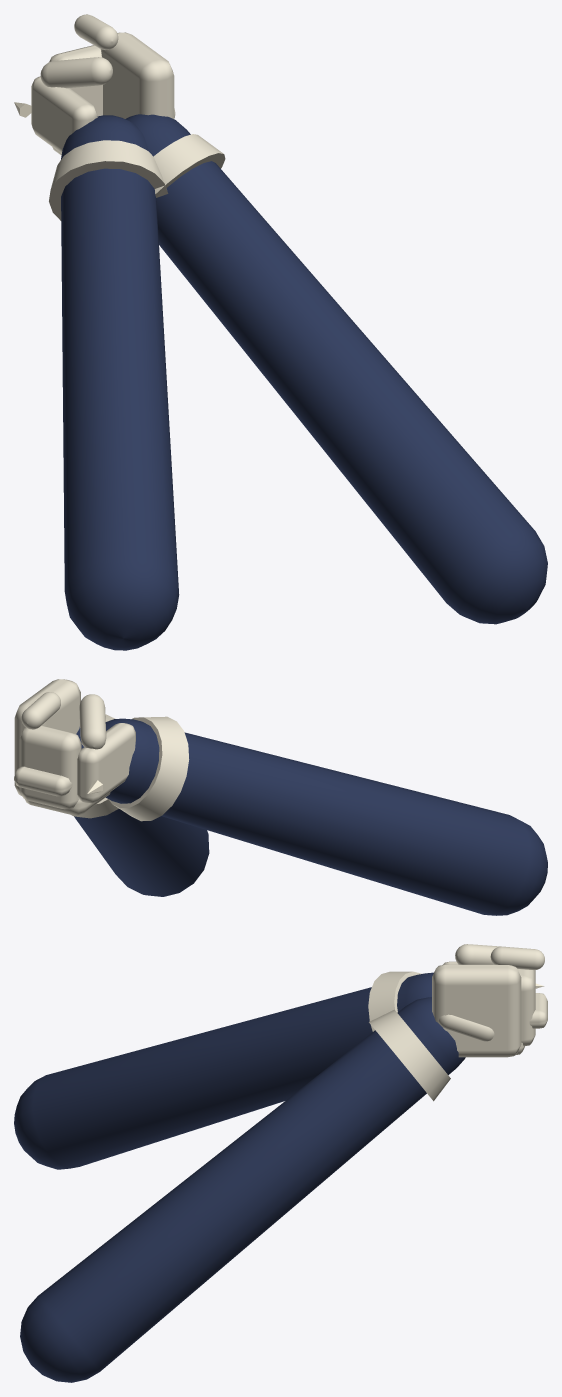
The model's file is inkwell.glb.
The picture shows the model from 3 angles, top to bottom: view 1: azimuth 30°, elevation 25°; view 2: azimuth 150°, elevation 25°; view 3: azimuth 270°, elevation 25°; orthographic projection. The views are drawn at different scales.
Parts seen in each view (by area): view 1: forearm_R, forearm_L, palm_R, cuff_L, fingers_L, cuff_R, thumb_R, trigger_finger_R, fingers_R; view 2: forearm_L, forearm_R, cuff_L, fingers_R, fingers_L, palm_R, thumb_R, knuckles_R, trigger_finger_R, cuff_R, palm_L; view 3: forearm_R, forearm_L, palm_R, cuff_R, cuff_L, fingers_R, trigger_finger_R, thumb_L, thumb_R.
Part boxes in pixels (x1,y1,x2,y2): forearm_R: (125, 114, 547, 624); forearm_L: (61, 115, 179, 650); palm_R: (100, 32, 174, 118); cuff_L: (49, 140, 168, 220); fingers_L: (31, 76, 97, 153); cuff_R: (153, 134, 225, 197); thumb_R: (40, 57, 112, 88); trigger_finger_R: (74, 14, 118, 49); fingers_R: (49, 45, 102, 116); forearm_L: (105, 718, 547, 915); forearm_R: (74, 727, 209, 896); cuff_L: (108, 716, 189, 821); fingers_R: (19, 725, 81, 809); fingers_L: (77, 723, 135, 803); palm_R: (14, 679, 80, 796); thumb_R: (79, 694, 106, 749); knuckles_R: (14, 766, 72, 796); trigger_finger_R: (21, 692, 60, 729); cuff_R: (71, 714, 118, 818); palm_L: (25, 792, 110, 815); forearm_R: (20, 997, 465, 1382); forearm_L: (14, 972, 433, 1169); palm_R: (432, 964, 521, 1057); cuff_R: (369, 1009, 450, 1101); cuff_L: (368, 971, 421, 1031); fingers_R: (517, 969, 535, 1046); trigger_finger_R: (490, 946, 544, 970); thumb_L: (439, 1014, 494, 1041); thumb_R: (455, 944, 501, 964).
Size of the model in its own units: 0.4161 by 0.3715 by 0.4788.
